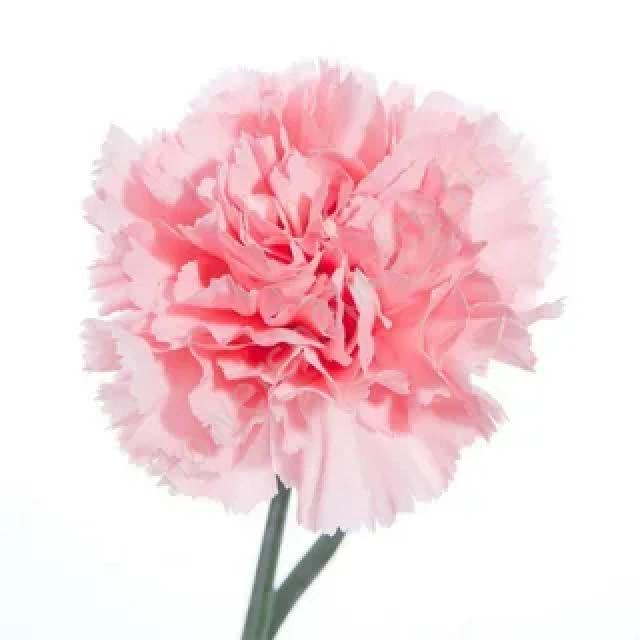carnation: (69, 47, 587, 541)
